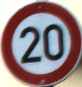20 km speed: (1, 1, 82, 86)
